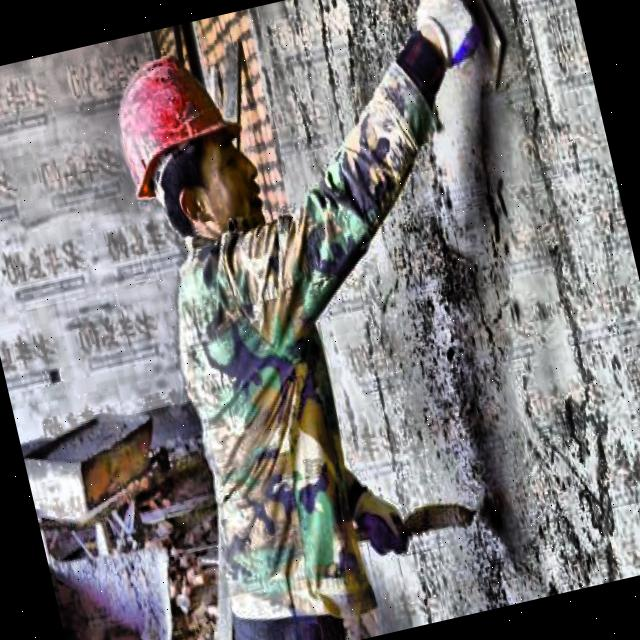helmet: (81, 21, 282, 278)
